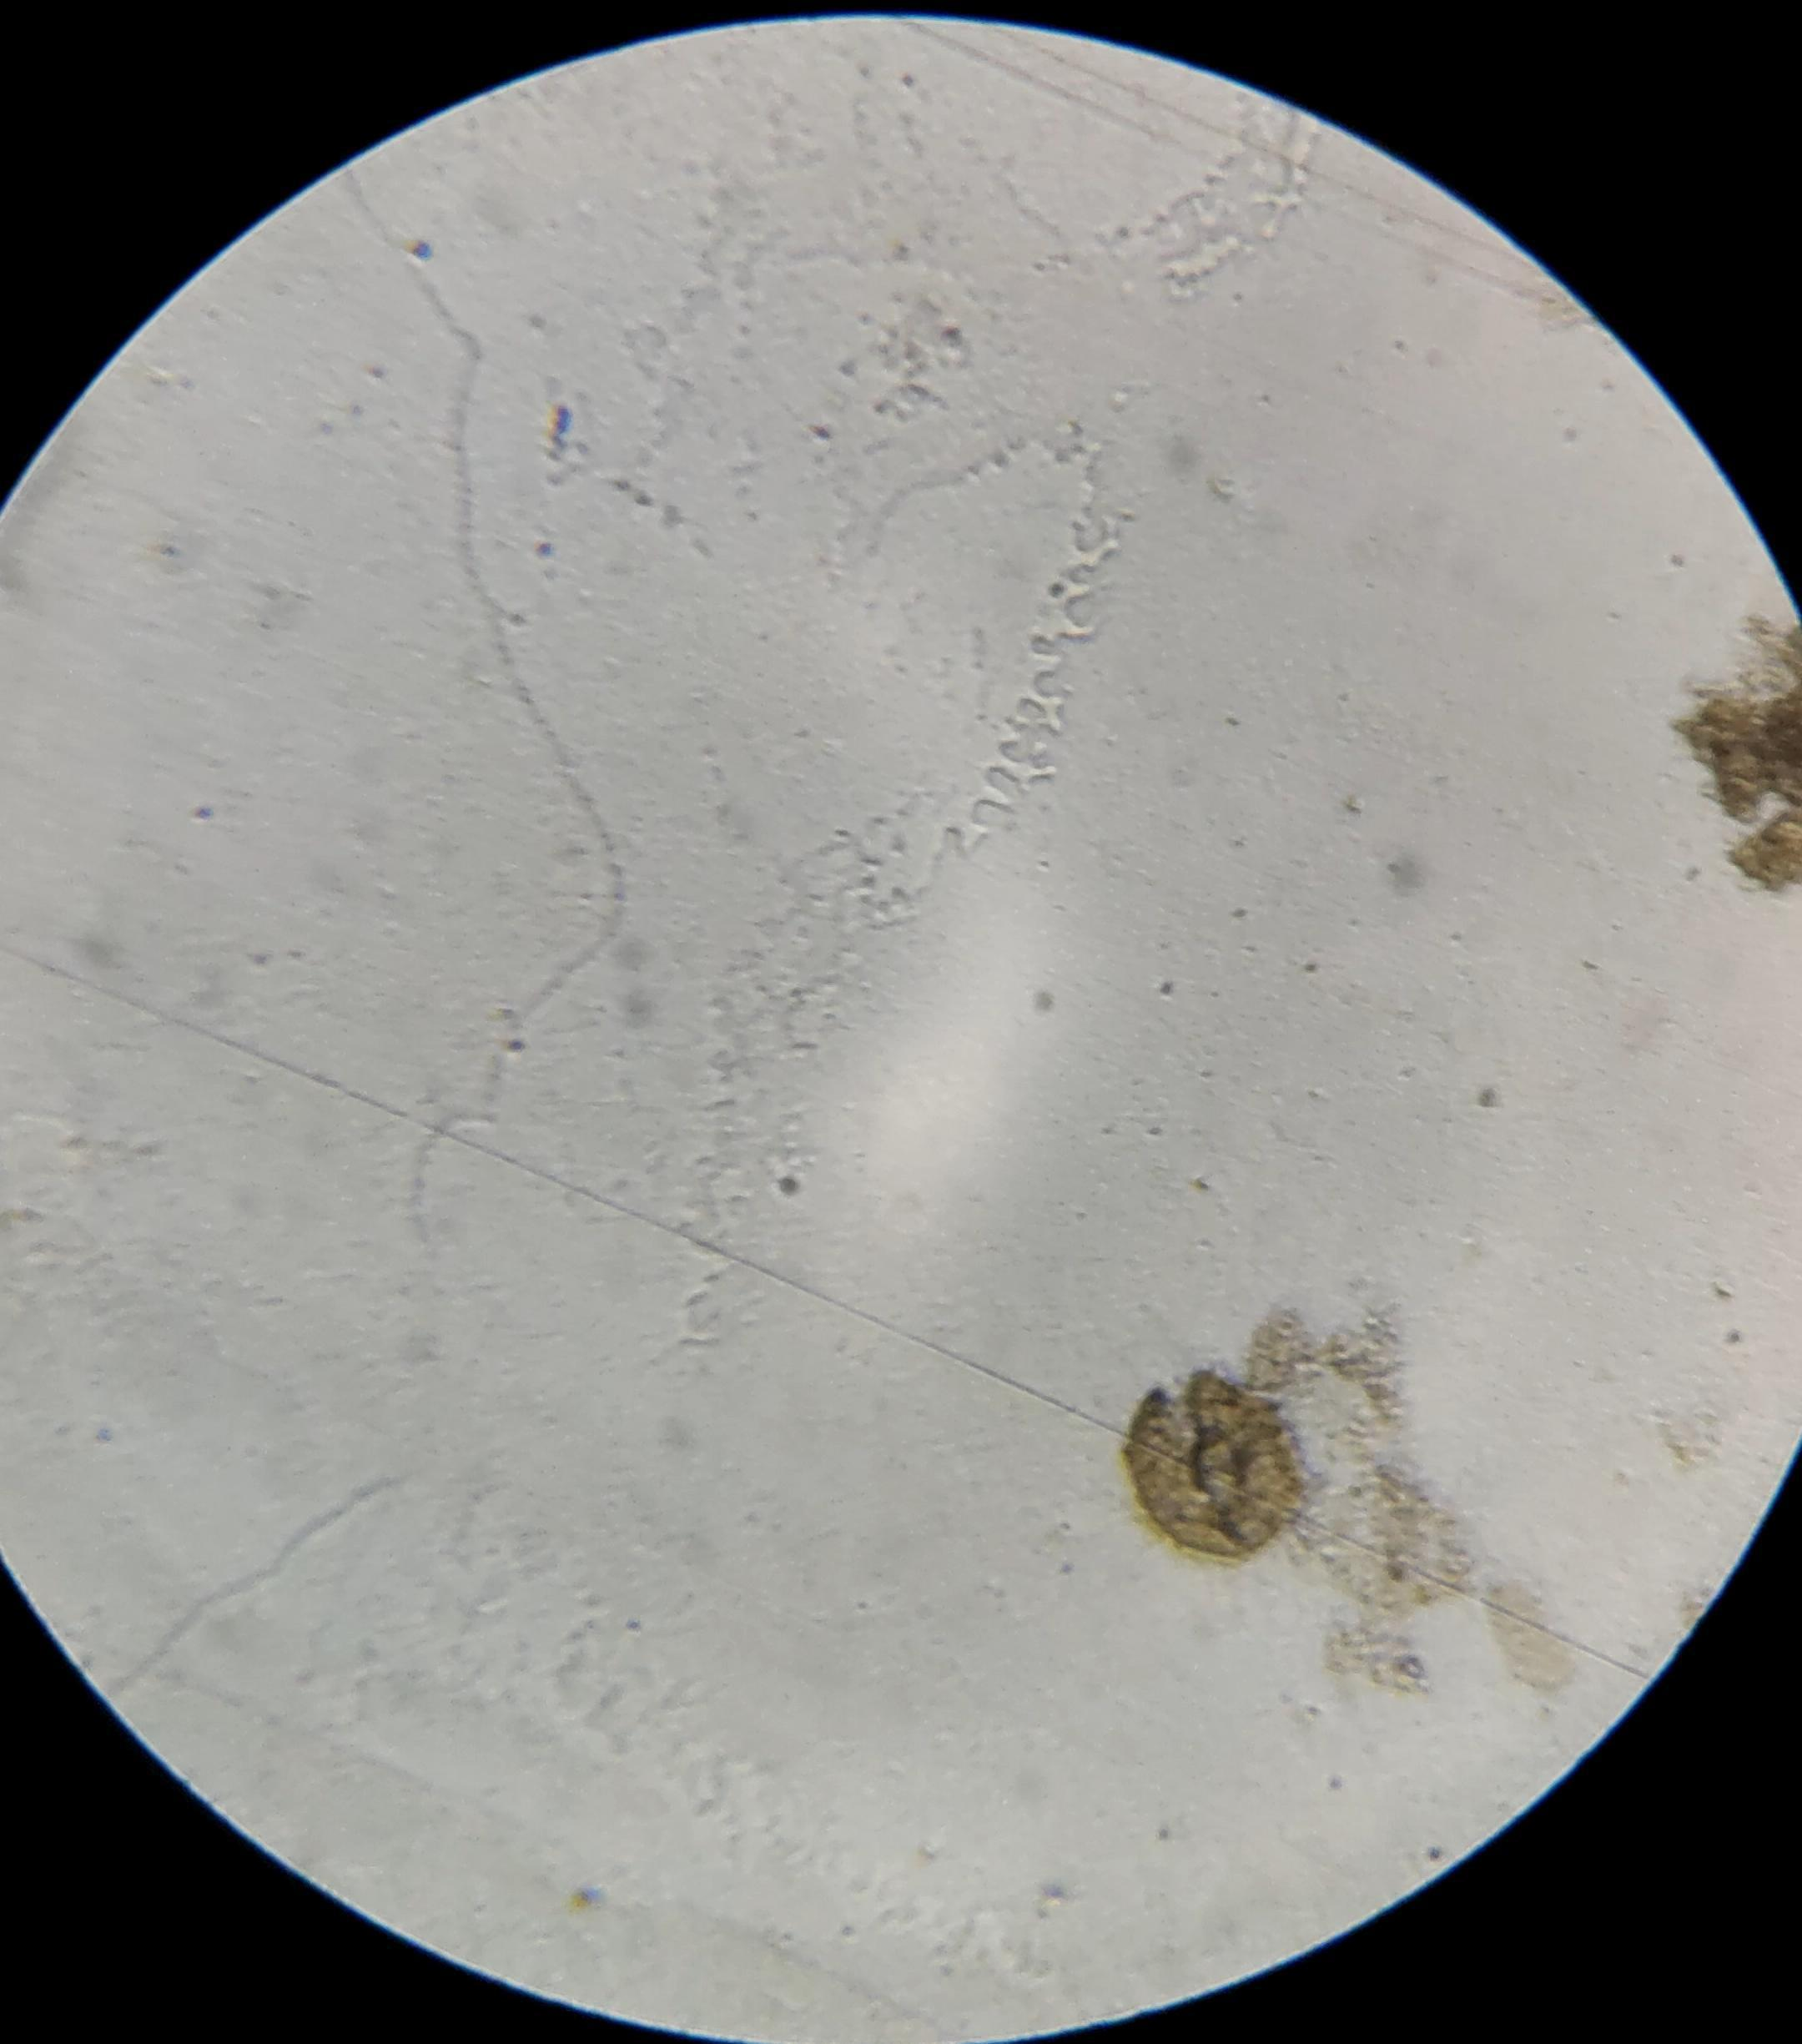Arcella: (1129, 1385, 1292, 1557)
